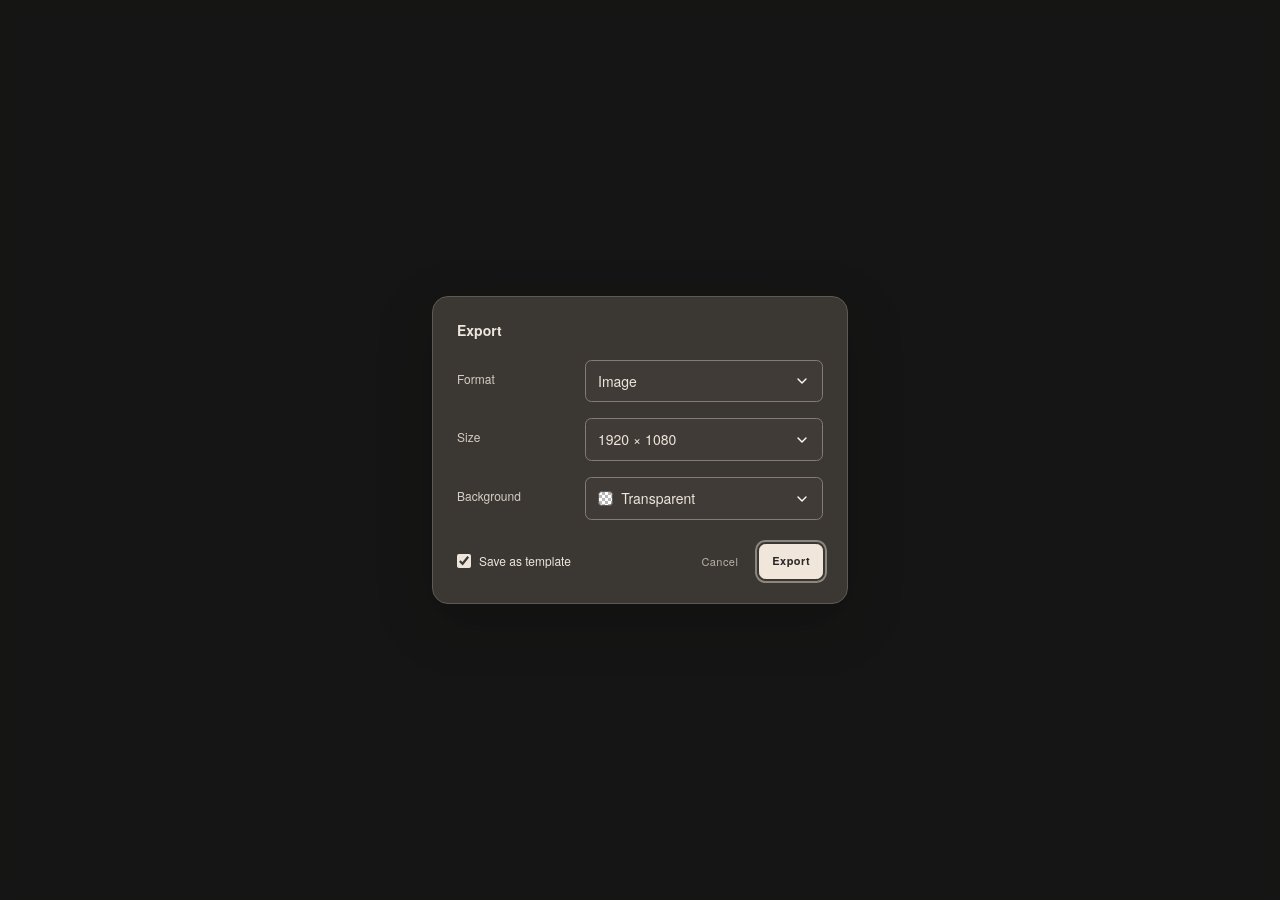
Test case: ExportDialog › in Safari › suggests another browser for a transparent video, without blocking it
Click the button with aria-label "Format": (704, 381) x1=585 y1=360 x2=823 y2=402
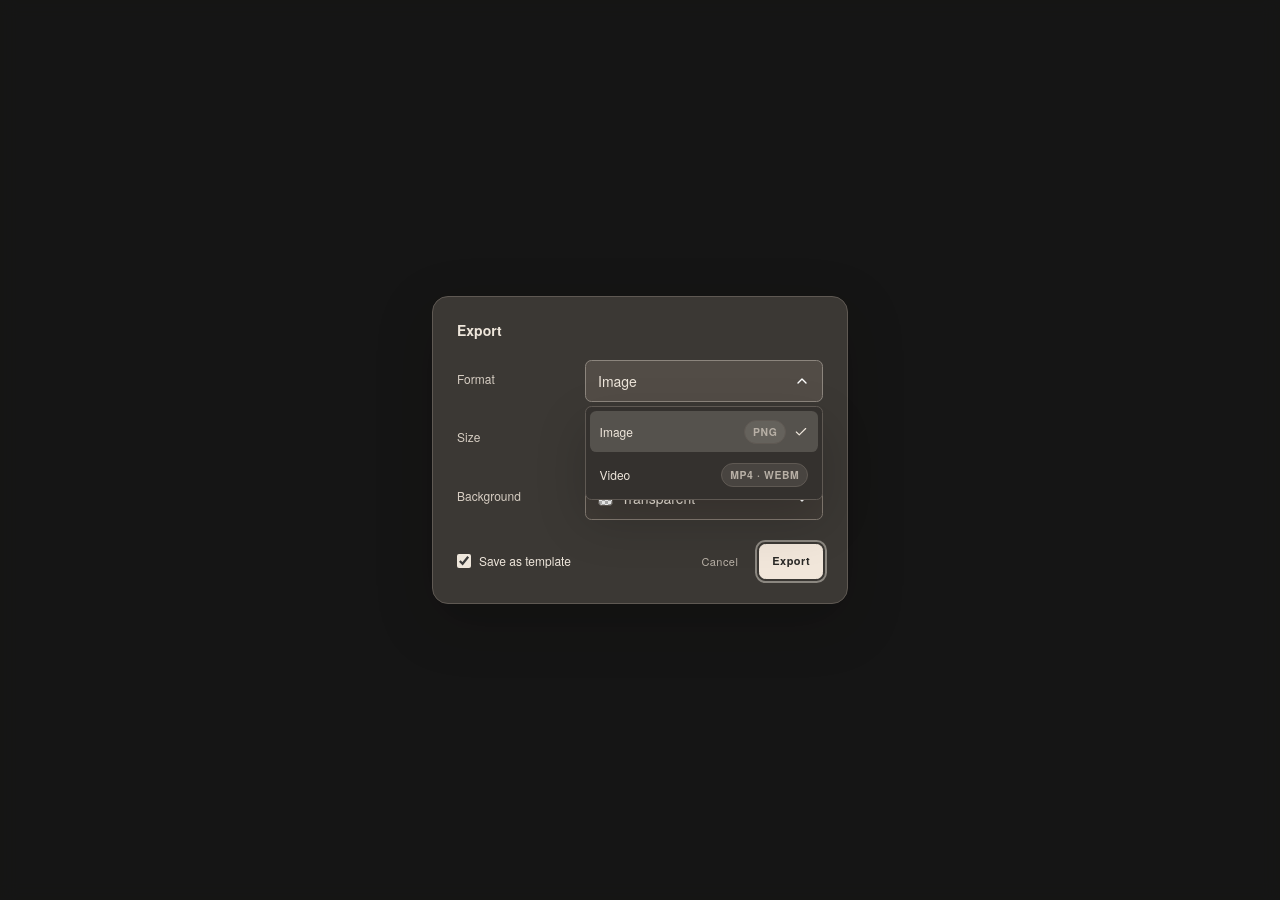
Click the option "Video MP4 · WebM": (704, 475) x1=590 y1=454 x2=818 y2=495
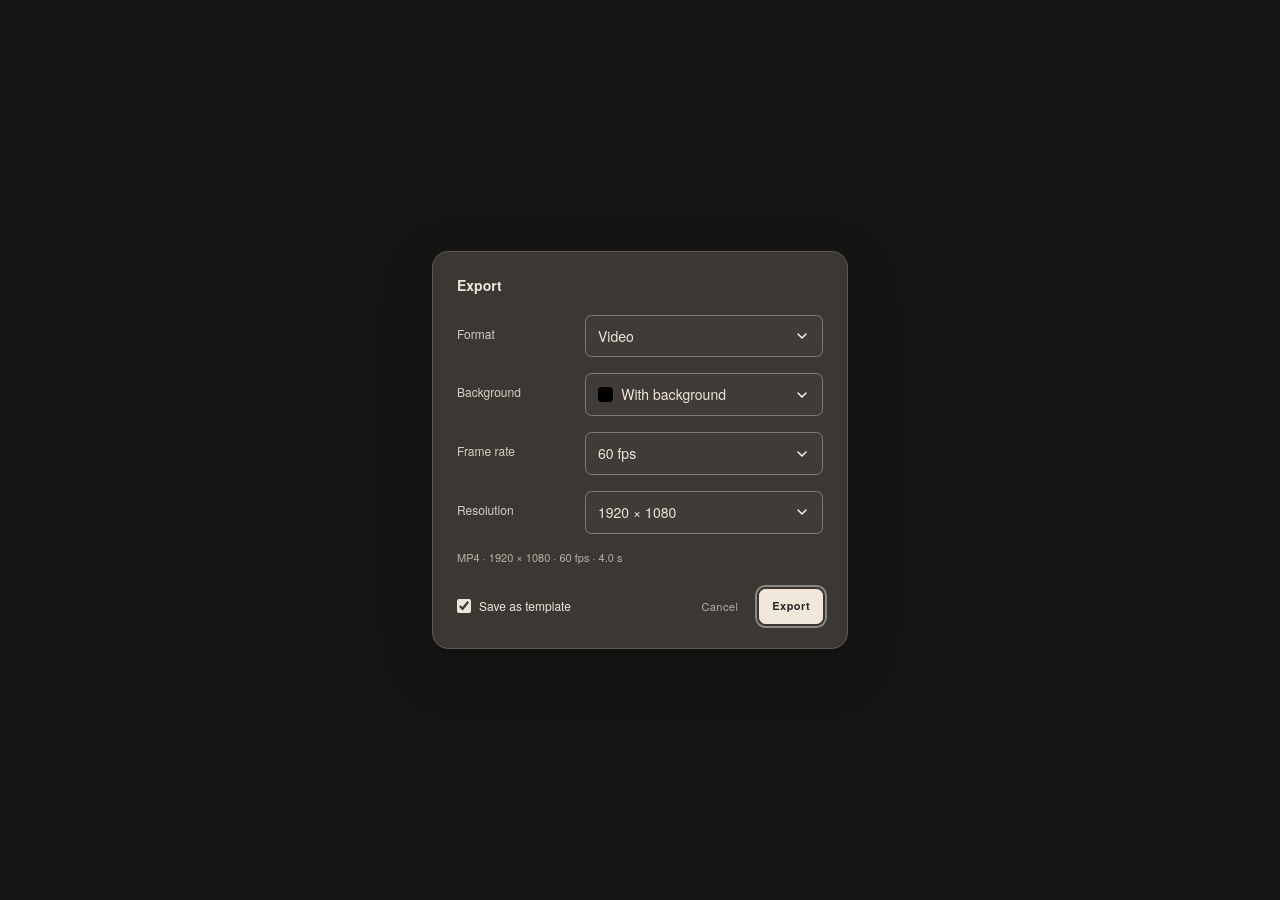
Click the button "With background": (704, 395) x1=585 y1=373 x2=823 y2=416
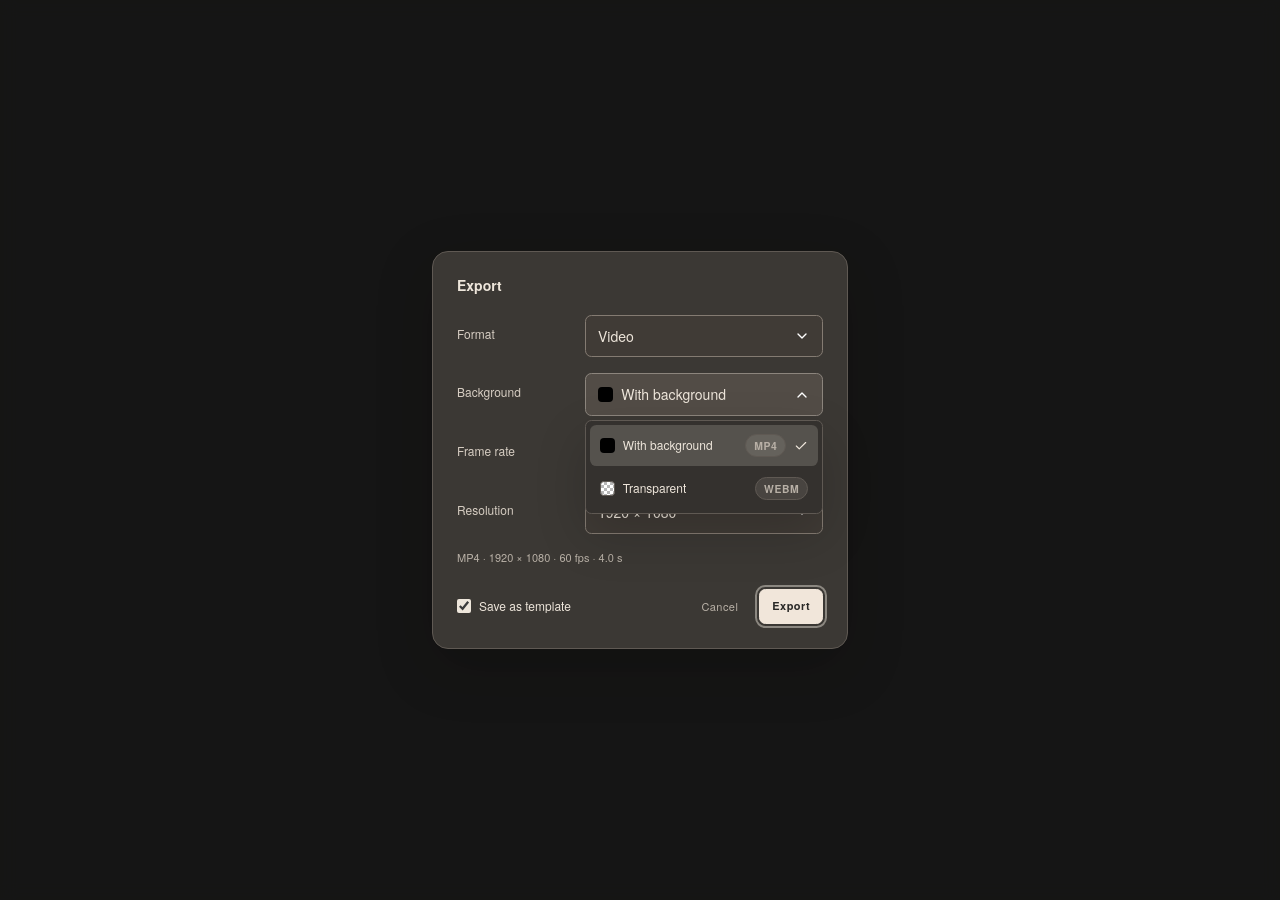
Click the option "Transparent WebM": (704, 489) x1=590 y1=468 x2=818 y2=509
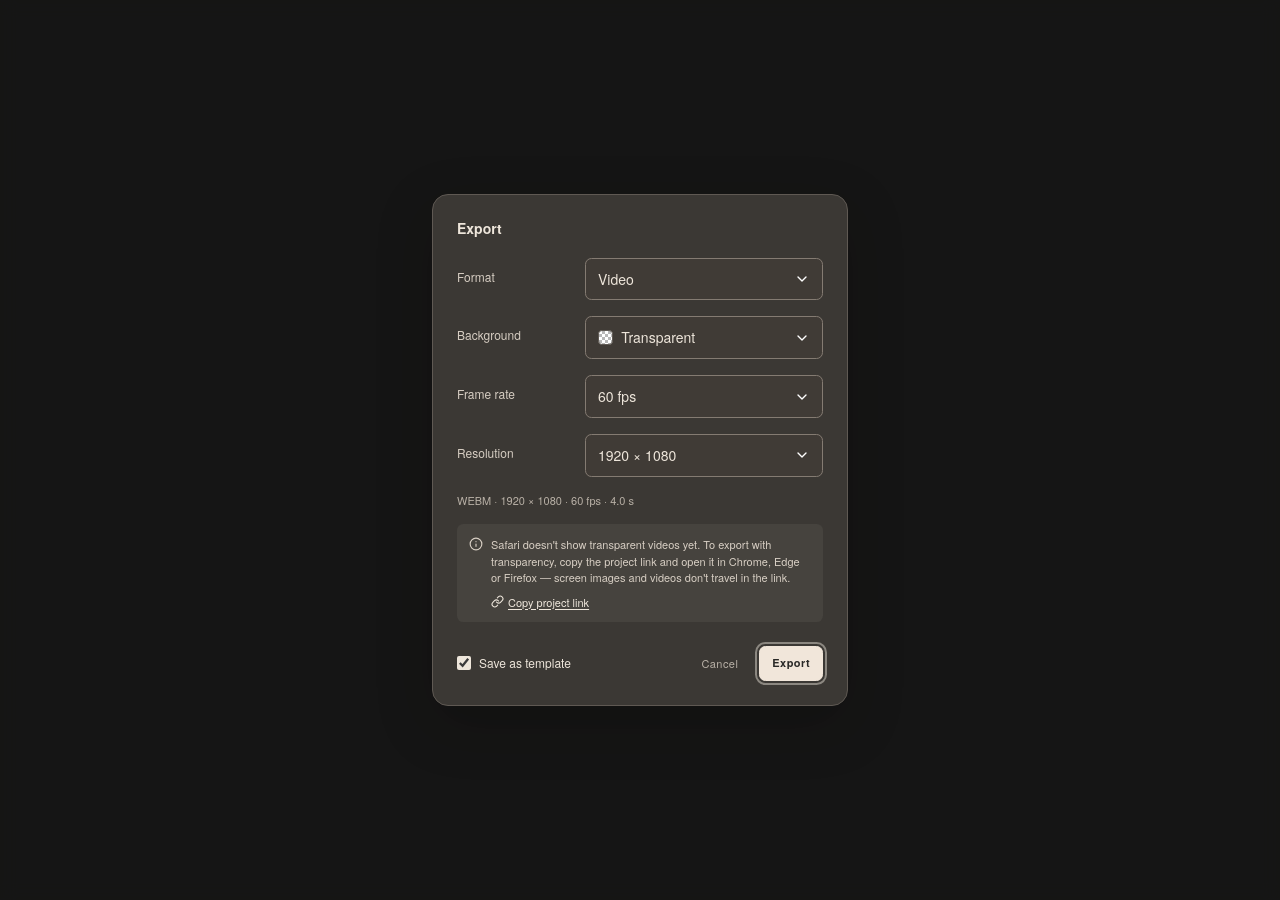
Check: the button "Export" is enabled, box x1=759 y1=646 x2=823 y2=681
Check: the text "Safari doesn't show transparent videos yet. To export with transparency, copy the project link and open it in Chrome, Edge or Firefox — screen images and videos" is shown, box x1=491 y1=536 x2=800 y2=585
